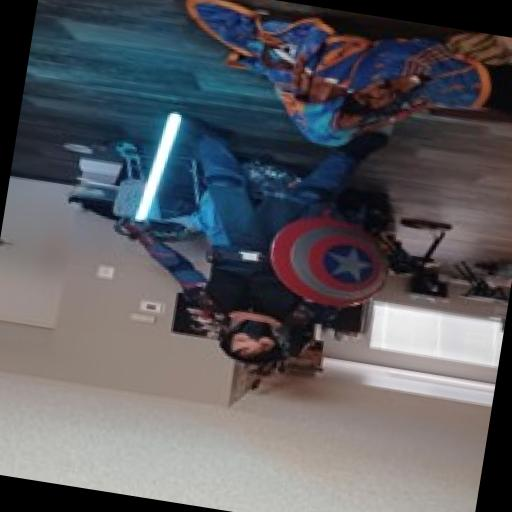human: (115, 95, 404, 379)
lightsaber: (113, 102, 182, 248)
